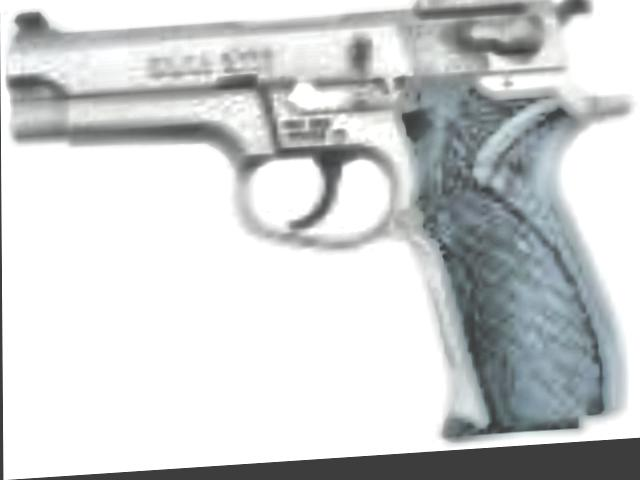pistol: (4, 0, 619, 468)
